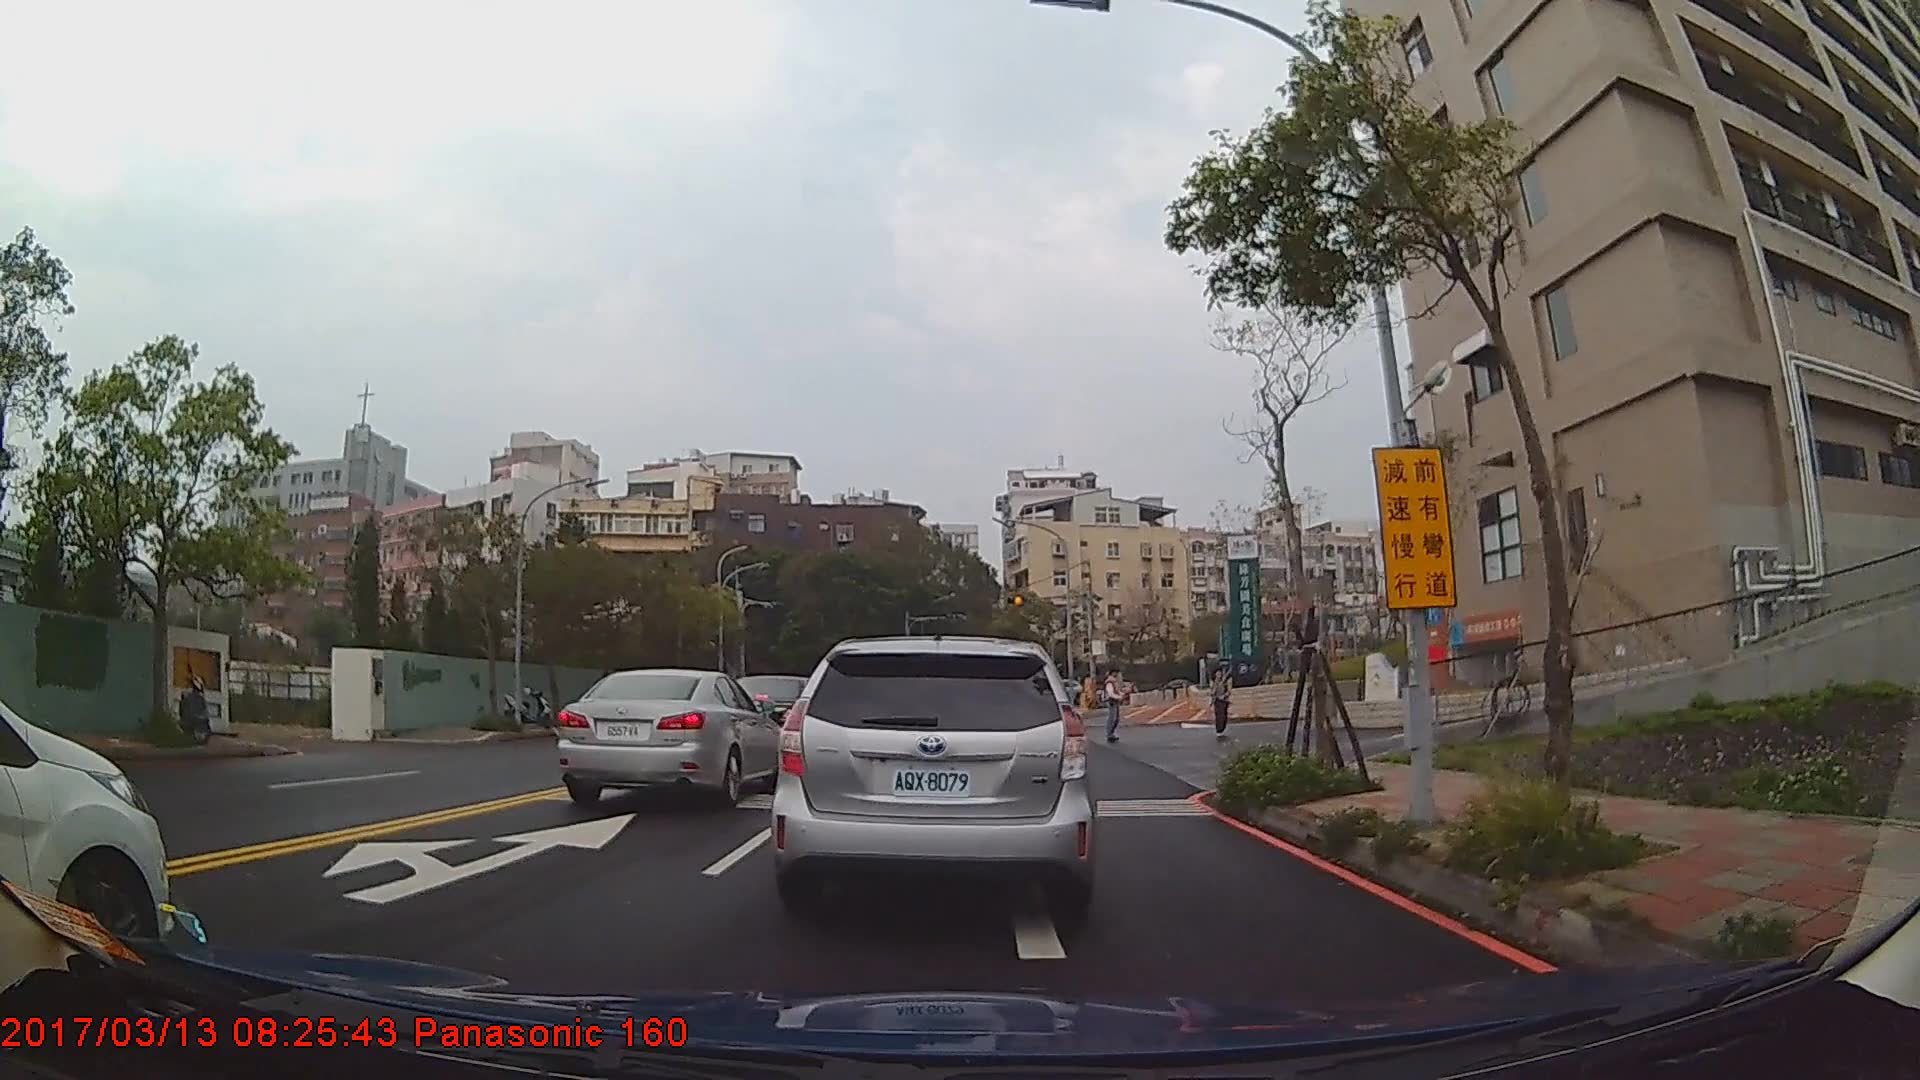pedestrian: (1210, 667, 1236, 742), (1102, 668, 1128, 743)
vehicle: (771, 635, 1098, 910), (0, 699, 168, 962), (558, 668, 789, 805)
